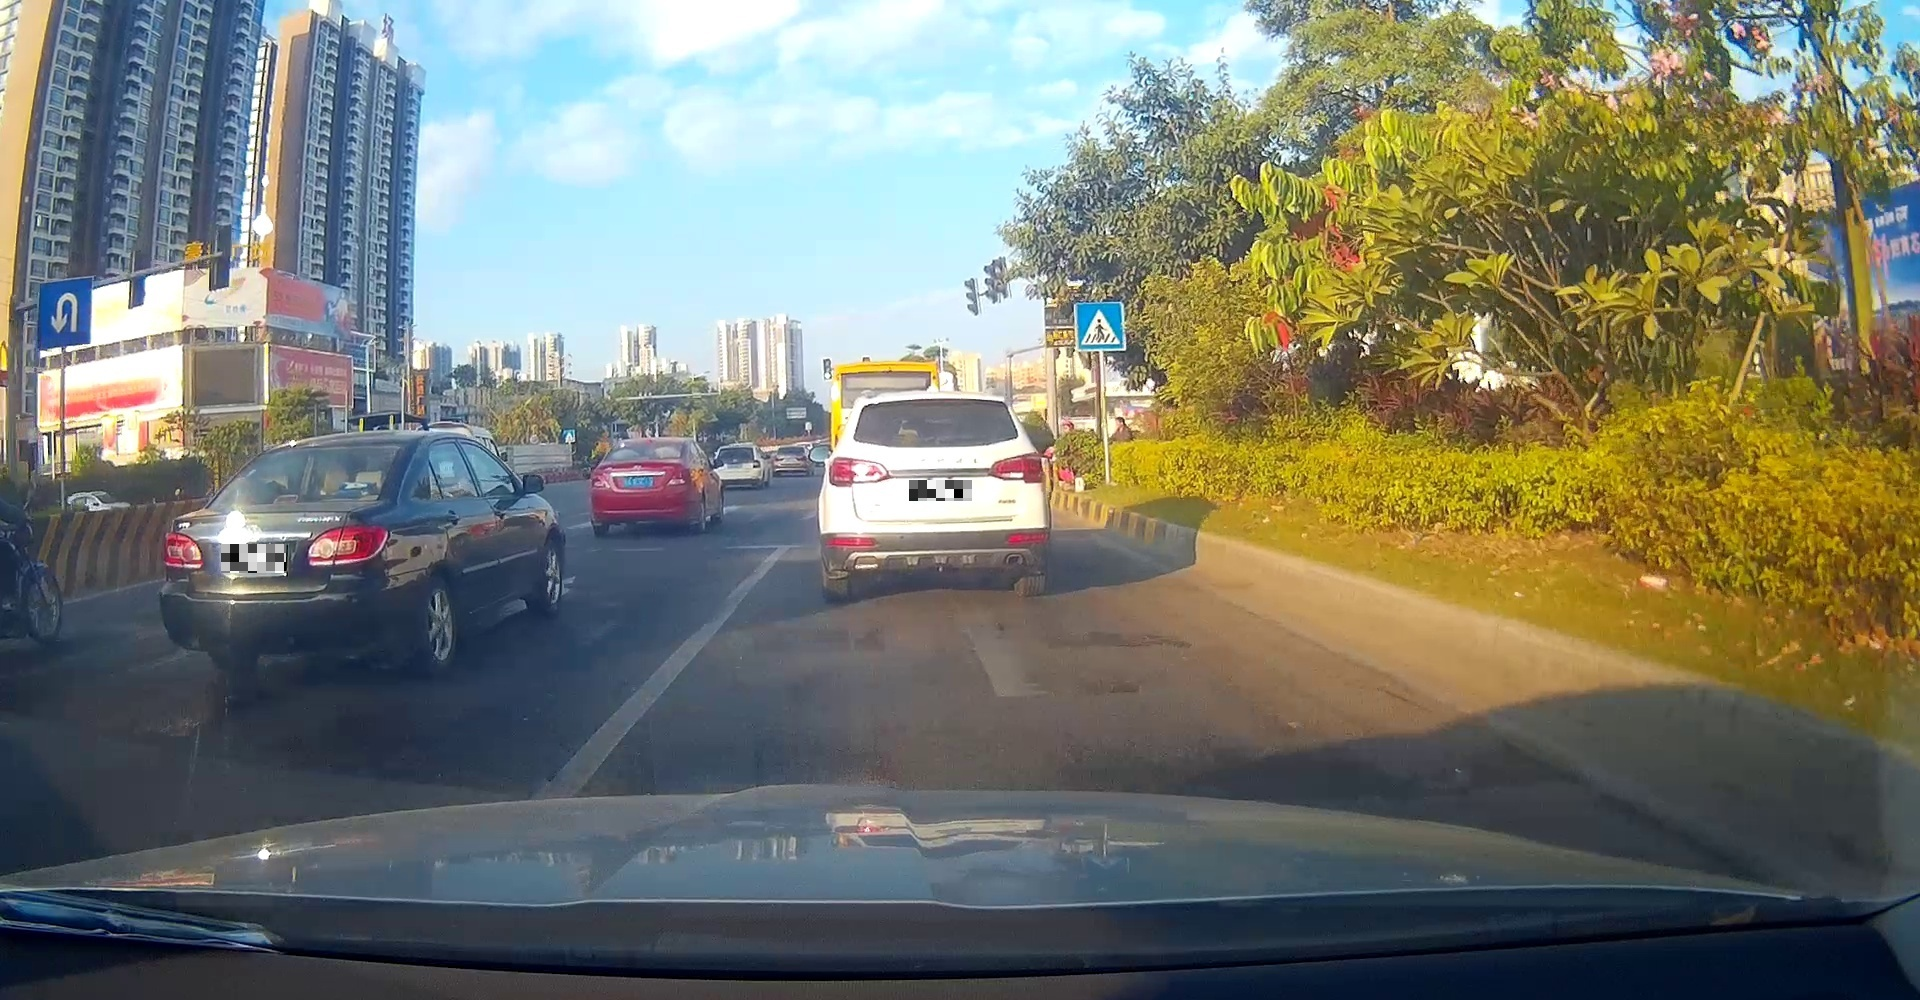L_light: (828, 457, 891, 489), (163, 530, 204, 569), (590, 475, 610, 489)
R_light: (306, 524, 389, 567), (987, 452, 1045, 484), (665, 468, 698, 486)
T_light: (914, 398, 966, 405), (272, 494, 298, 504), (636, 457, 650, 459)
day-no: (157, 430, 411, 676), (818, 390, 1051, 604), (589, 437, 701, 536)
plate_1: (221, 544, 286, 574)
plate_2: (909, 480, 971, 501)
